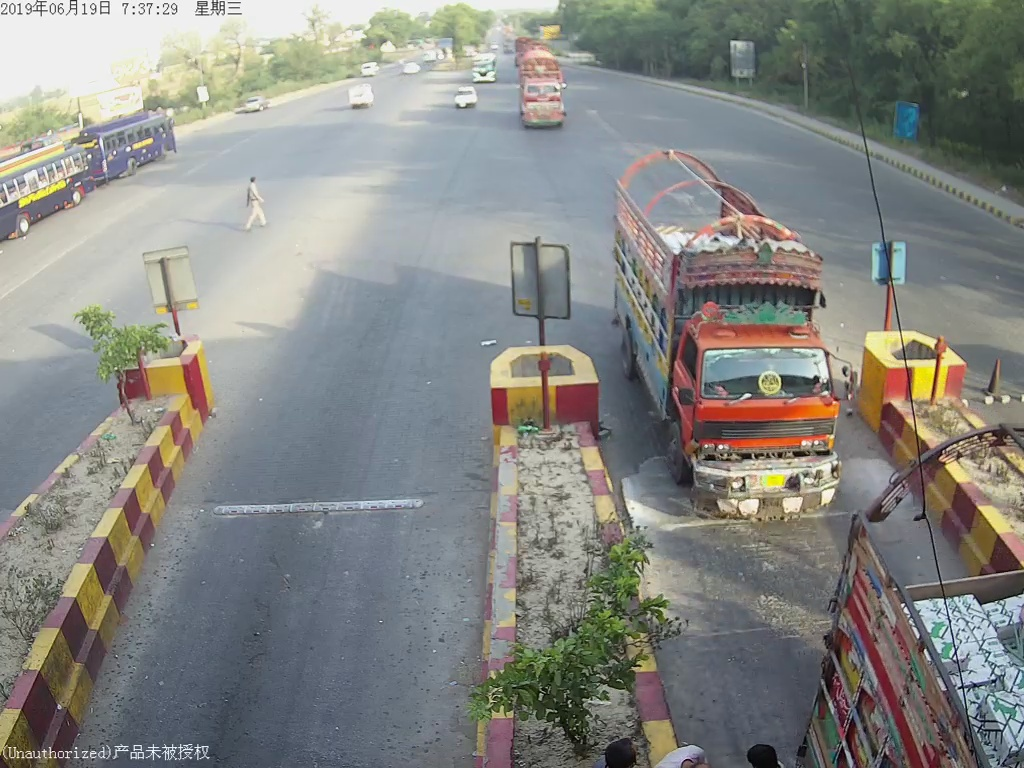Cat-4: (617, 159, 845, 518), (516, 48, 569, 130)
